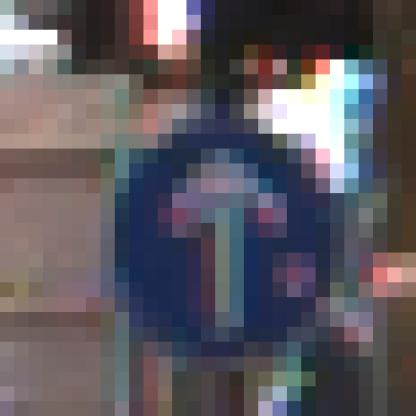AheadOnly: (87, 90, 331, 343)
